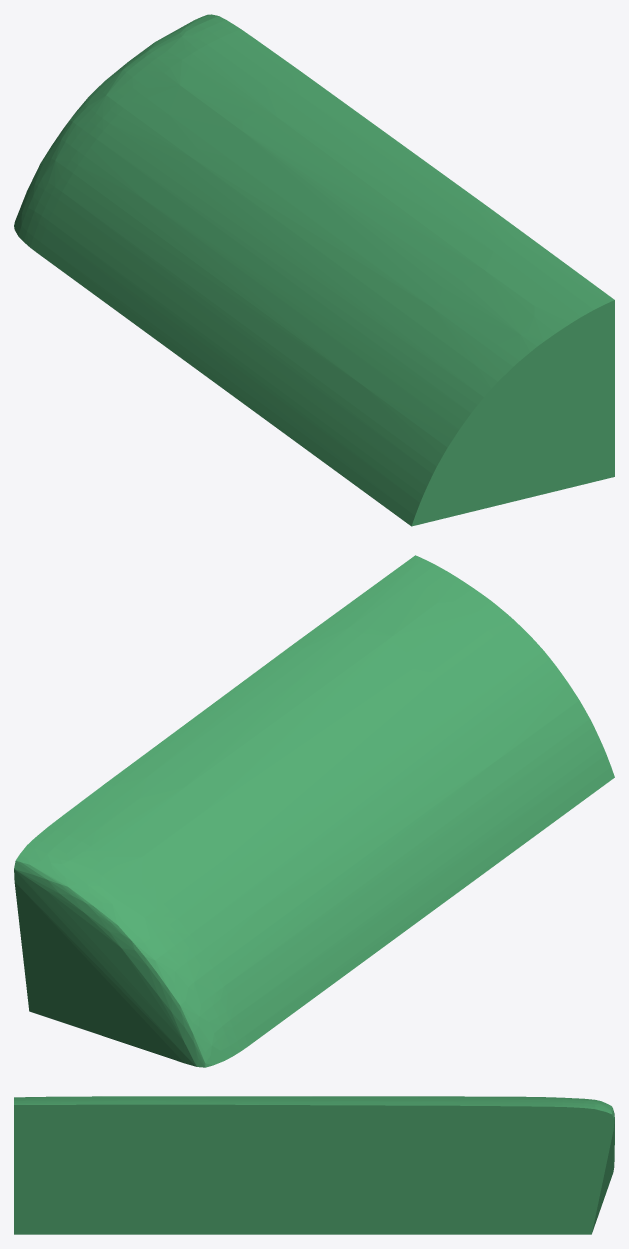
File: piece_3.obj
3 views of the same model, one above another, from view 1: azimuth 30°, elevation 25°; view 2: azimuth 150°, elevation 25°; view 3: azimuth 270°, elevation 25° (orthographic). The views are drawn at different scales.
Bounding box in the file's own units: 0.0272 × 0.0226 × 0.0947.
